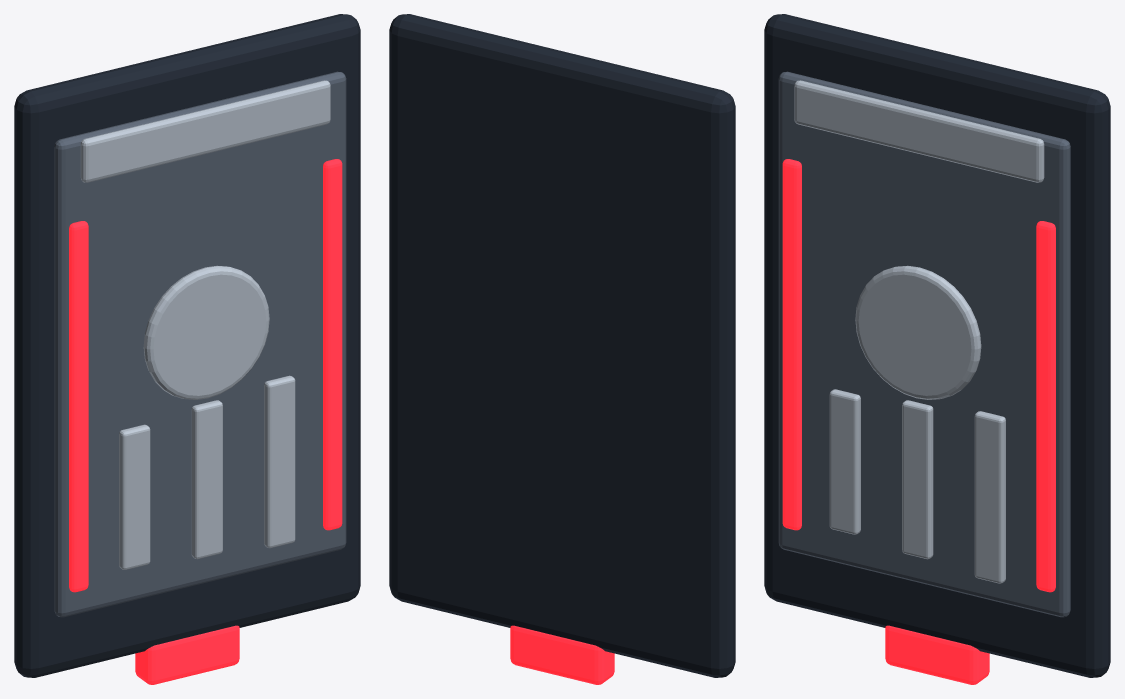
Rendered from persona-card.glb.
3 views of the same model, side by side, from view 1: azimuth 30°, elevation 25°; view 2: azimuth 150°, elevation 25°; view 3: azimuth 330°, elevation 25° (orthographic).
Parts seen in each view (by area): view 1: PersonaCard_Inset, PersonaCard_Body, PersonaCard_Glyph, PersonaCard_Header, PersonaCard_Light_Left, PersonaCard_Light_Right, PersonaCard_Code_3, PersonaCard_Code_2, PersonaCard_Code_1, PersonaCard_Key; view 2: PersonaCard_Body, PersonaCard_Key; view 3: PersonaCard_Inset, PersonaCard_Body, PersonaCard_Glyph, PersonaCard_Header, PersonaCard_Light_Left, PersonaCard_Light_Right, PersonaCard_Code_3, PersonaCard_Code_2, PersonaCard_Code_1, PersonaCard_Key.
Part boxes in pixels (x1,y1,x2,y2): PersonaCard_Inset: (54, 71, 346, 617); PersonaCard_Body: (14, 14, 360, 677); PersonaCard_Glyph: (143, 265, 269, 399); PersonaCard_Header: (80, 80, 330, 182); PersonaCard_Light_Left: (69, 221, 88, 592); PersonaCard_Light_Right: (323, 159, 342, 530); PersonaCard_Code_3: (264, 375, 295, 548); PersonaCard_Code_2: (191, 400, 222, 559); PersonaCard_Code_1: (119, 424, 150, 569); PersonaCard_Key: (135, 625, 239, 684); PersonaCard_Body: (389, 14, 735, 677); PersonaCard_Key: (510, 625, 614, 684); PersonaCard_Inset: (778, 71, 1070, 617); PersonaCard_Body: (764, 14, 1110, 677); PersonaCard_Glyph: (855, 265, 981, 399); PersonaCard_Header: (794, 80, 1044, 182); PersonaCard_Light_Left: (782, 159, 801, 530); PersonaCard_Light_Right: (1036, 221, 1055, 592); PersonaCard_Code_3: (974, 411, 1005, 583); PersonaCard_Code_2: (902, 400, 933, 559); PersonaCard_Code_1: (829, 389, 860, 534); PersonaCard_Key: (885, 625, 989, 684).
Bounding box in the file's own units: 0.66 × 1.14 × 0.1025.
